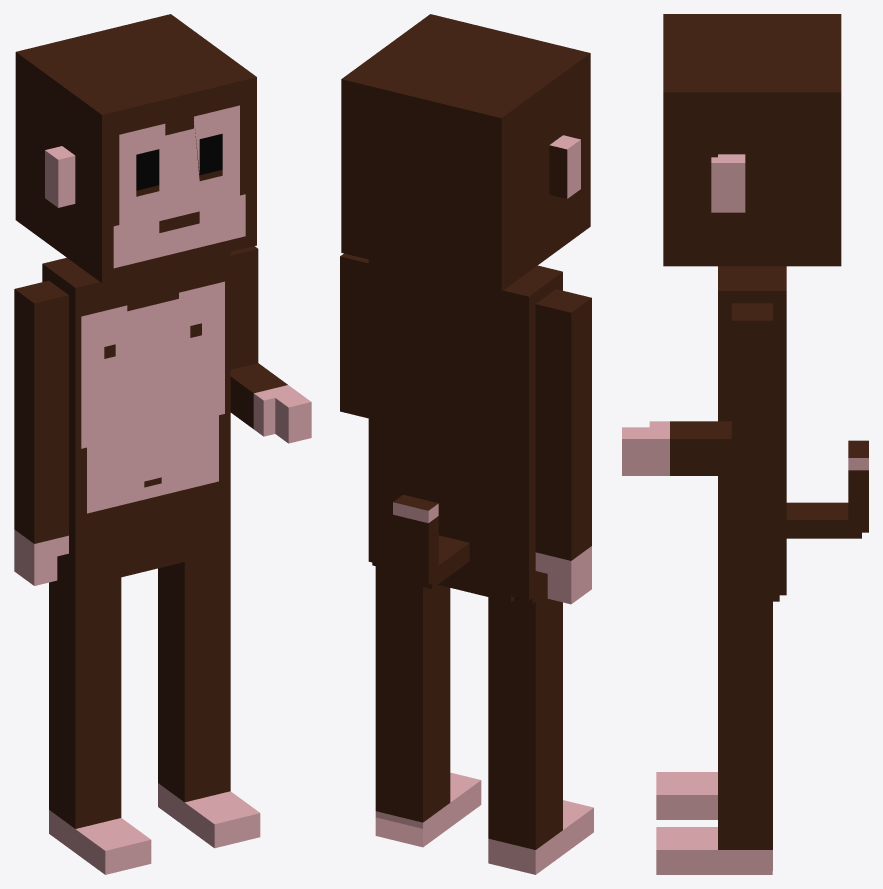
File: ape.glb
The picture shows the model from 3 angles, left to right: view 1: azimuth 30°, elevation 25°; view 2: azimuth 150°, elevation 25°; view 3: azimuth 270°, elevation 25°; orthographic projection. The views are drawn at different scales.
Visible parts, largest first — view 1: ape final.vox; view 2: ape final.vox; view 3: ape final.vox.
Part boxes in pixels (x1,y1,x2,y2): ape final.vox: (14, 14, 311, 874); ape final.vox: (340, 14, 593, 874); ape final.vox: (622, 14, 868, 874).
Bounding box in the file's own units: 3.9 × 12.6 × 3.6.
